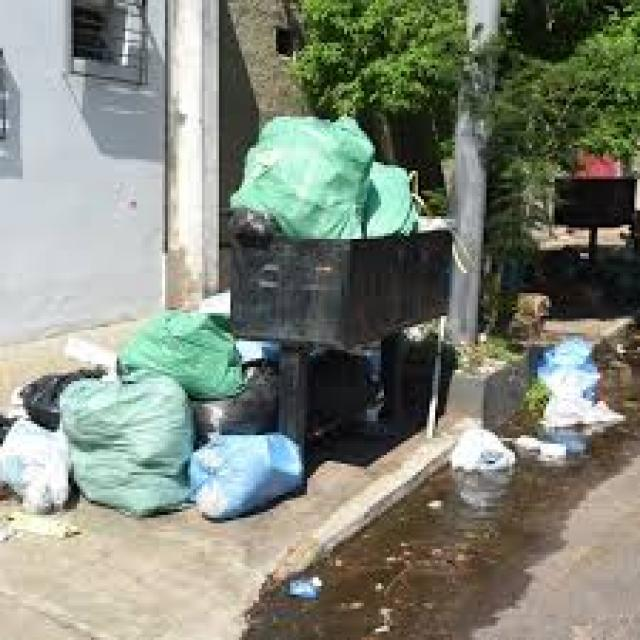garbage: (0, 296, 316, 534), (224, 113, 461, 247), (531, 333, 633, 438), (444, 422, 598, 480)
